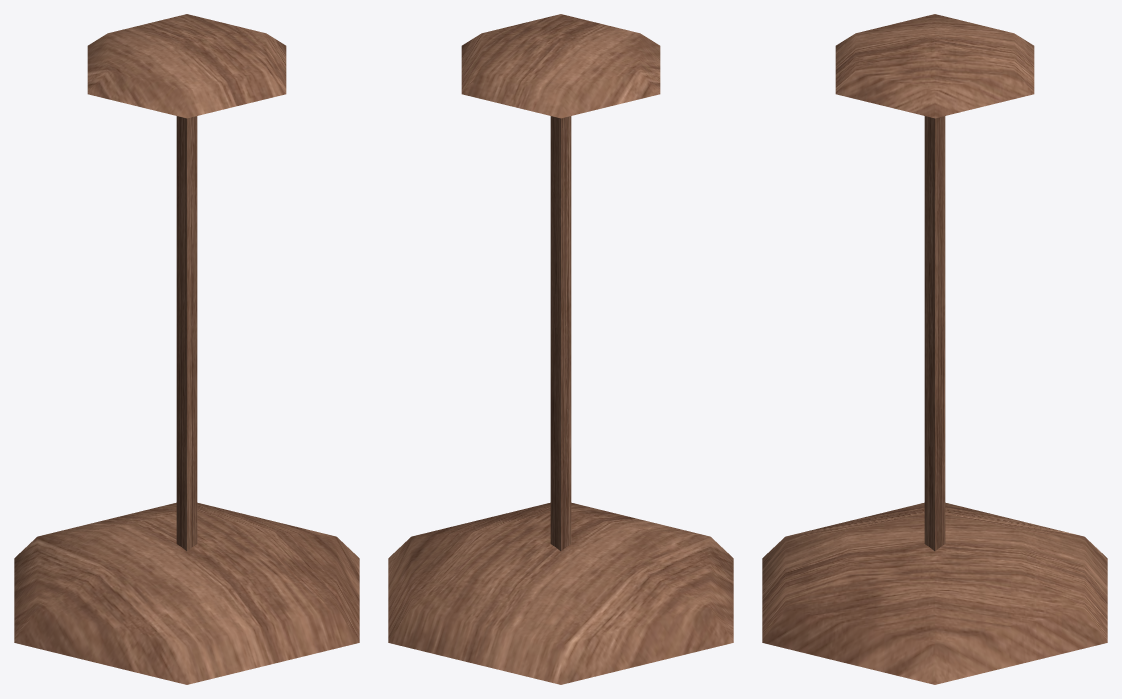
Rendered from shop_tailor_hatStand.fbx.
3 renders of one model, left to right at view 1: azimuth 30°, elevation 25°; view 2: azimuth 150°, elevation 25°; view 3: azimuth 270°, elevation 25°, orthographic.
Visible parts, largest first — view 1: hatStand_base, hatStand_top, hatStand_pole; view 2: hatStand_base, hatStand_top, hatStand_pole; view 3: hatStand_base, hatStand_top, hatStand_pole.
Boxes of the visible parts, left/top/right/bottom form: hatStand_base: left=14, top=502, right=359, bottom=684; hatStand_top: left=87, top=14, right=286, bottom=118; hatStand_pole: left=176, top=116, right=197, bottom=551; hatStand_base: left=388, top=502, right=733, bottom=684; hatStand_top: left=461, top=14, right=660, bottom=118; hatStand_pole: left=550, top=116, right=571, bottom=551; hatStand_base: left=762, top=502, right=1107, bottom=684; hatStand_top: left=835, top=14, right=1034, bottom=118; hatStand_pole: left=924, top=116, right=945, bottom=551.
Bounding box in the file's own units: 74.12 × 115 × 64.19.
Materials: 1 (1 with a texture image).
